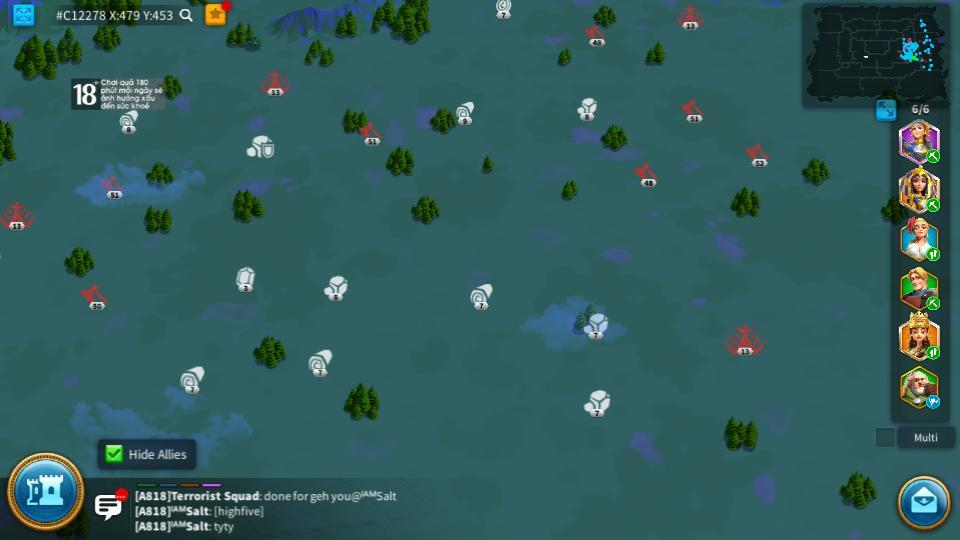gem-z-out: (234, 266, 257, 291)
march_farming: (925, 197, 941, 212)
march_idle: (925, 396, 942, 408)
march_marching: (925, 345, 941, 359), (925, 150, 942, 162), (925, 297, 942, 308), (925, 250, 941, 261)
